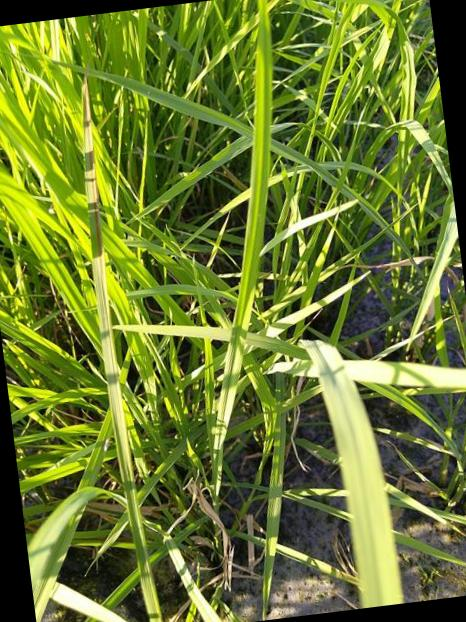Leaf Streak: (83, 85, 122, 386)
